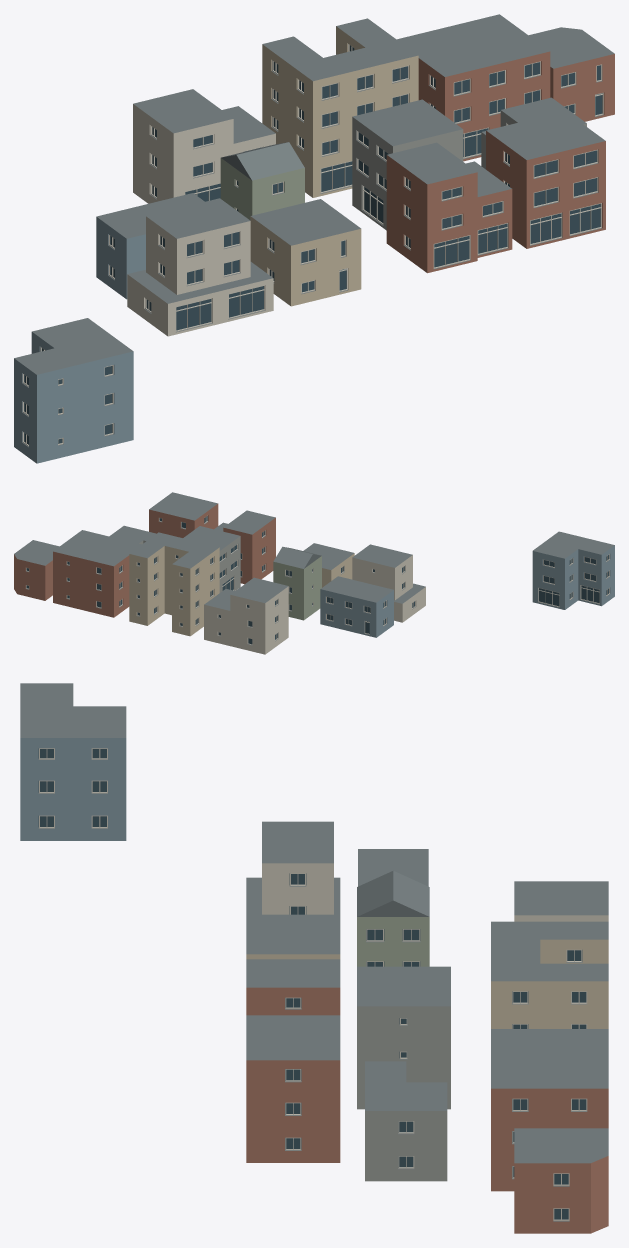
The model's file is Buildings1.fbx.
3 views of the same model, one above another, from view 1: azimuth 30°, elevation 25°; view 2: azimuth 150°, elevation 25°; view 3: azimuth 270°, elevation 25° (orthographic). The views are drawn at different scales.
Parts seen in each view (by area): view 1: AB01_B08.001, AB01_E01.001, AB01_B15.001, AB01_B17.001, AB01_B18.001, AB01_B09.001, AB01_B07.001, AB01_B16.001, AB01_B13.001, AB01_B10.001, AB01_B12.001, AB01_B11.001 (+1 smaller); view 2: AB01_B08.001, AB01_B09.001, AB01_E01.001, AB01_B07.001, AB01_B11.001, AB01_B15.001, AB01_B12.001, AB01_B17.001, AB01_B18.001, AB01_B10.001, AB01_B13.001, AB01_B16.001 (+1 smaller); view 3: AB01_E01.001, AB01_B18.001, AB01_B09.001, AB01_B08.001, AB01_B13.001, AB01_B10.001, AB01_B14.001, AB01_B15.001, AB01_B12.001, AB01_B17.001, AB01_B16.001, AB01_B07.001 (+1 smaller).
Boxes of the visible parts, x1=… form: AB01_B08.001: x1=262, y1=18, x2=418, y2=197; AB01_E01.001: x1=14, y1=318, x2=133, y2=463; AB01_B15.001: x1=127, y1=198, x2=273, y2=336; AB01_B17.001: x1=386, y1=142, x2=512, y2=273; AB01_B18.001: x1=486, y1=111, x2=605, y2=248; AB01_B09.001: x1=397, y1=14, x2=550, y2=161; AB01_B07.001: x1=133, y1=89, x2=275, y2=203; AB01_B16.001: x1=250, y1=199, x2=361, y2=306; AB01_B13.001: x1=352, y1=99, x2=463, y2=230; AB01_B10.001: x1=529, y1=27, x2=614, y2=121; AB01_B12.001: x1=220, y1=142, x2=304, y2=219; AB01_B11.001: x1=96, y1=193, x2=204, y2=299; AB01_B08.001: x1=129, y1=532, x2=219, y2=636; AB01_B09.001: x1=53, y1=530, x2=141, y2=617; AB01_E01.001: x1=532, y1=531, x2=614, y2=609; AB01_B07.001: x1=204, y1=577, x2=288, y2=654; AB01_B11.001: x1=320, y1=576, x2=393, y2=637; AB01_B15.001: x1=352, y1=544, x2=425, y2=622; AB01_B12.001: x1=273, y1=546, x2=321, y2=620; AB01_B17.001: x1=214, y1=510, x2=275, y2=584; AB01_B18.001: x1=149, y1=492, x2=218, y2=537; AB01_B10.001: x1=14, y1=540, x2=59, y2=600; AB01_B13.001: x1=183, y1=526, x2=240, y2=592; AB01_B16.001: x1=303, y1=543, x2=354, y2=587; AB01_E01.001: x1=20, y1=683, x2=126, y2=840; AB01_B18.001: x1=246, y1=1015, x2=340, y2=1162; AB01_B09.001: x1=491, y1=1029, x2=608, y2=1191; AB01_B08.001: x1=491, y1=921, x2=608, y2=1028; AB01_B13.001: x1=357, y1=966, x2=450, y2=1109; AB01_B10.001: x1=514, y1=1128, x2=608, y2=1233; AB01_B14.001: x1=365, y1=1061, x2=447, y2=1181; AB01_B15.001: x1=246, y1=821, x2=340, y2=914; AB01_B12.001: x1=357, y1=870, x2=429, y2=966; AB01_B17.001: x1=246, y1=959, x2=340, y2=1015; AB01_B16.001: x1=246, y1=914, x2=340, y2=959; AB01_B07.001: x1=514, y1=881, x2=608, y2=921.
Size of the model in its own units: 90 by 12.7 by 50.
